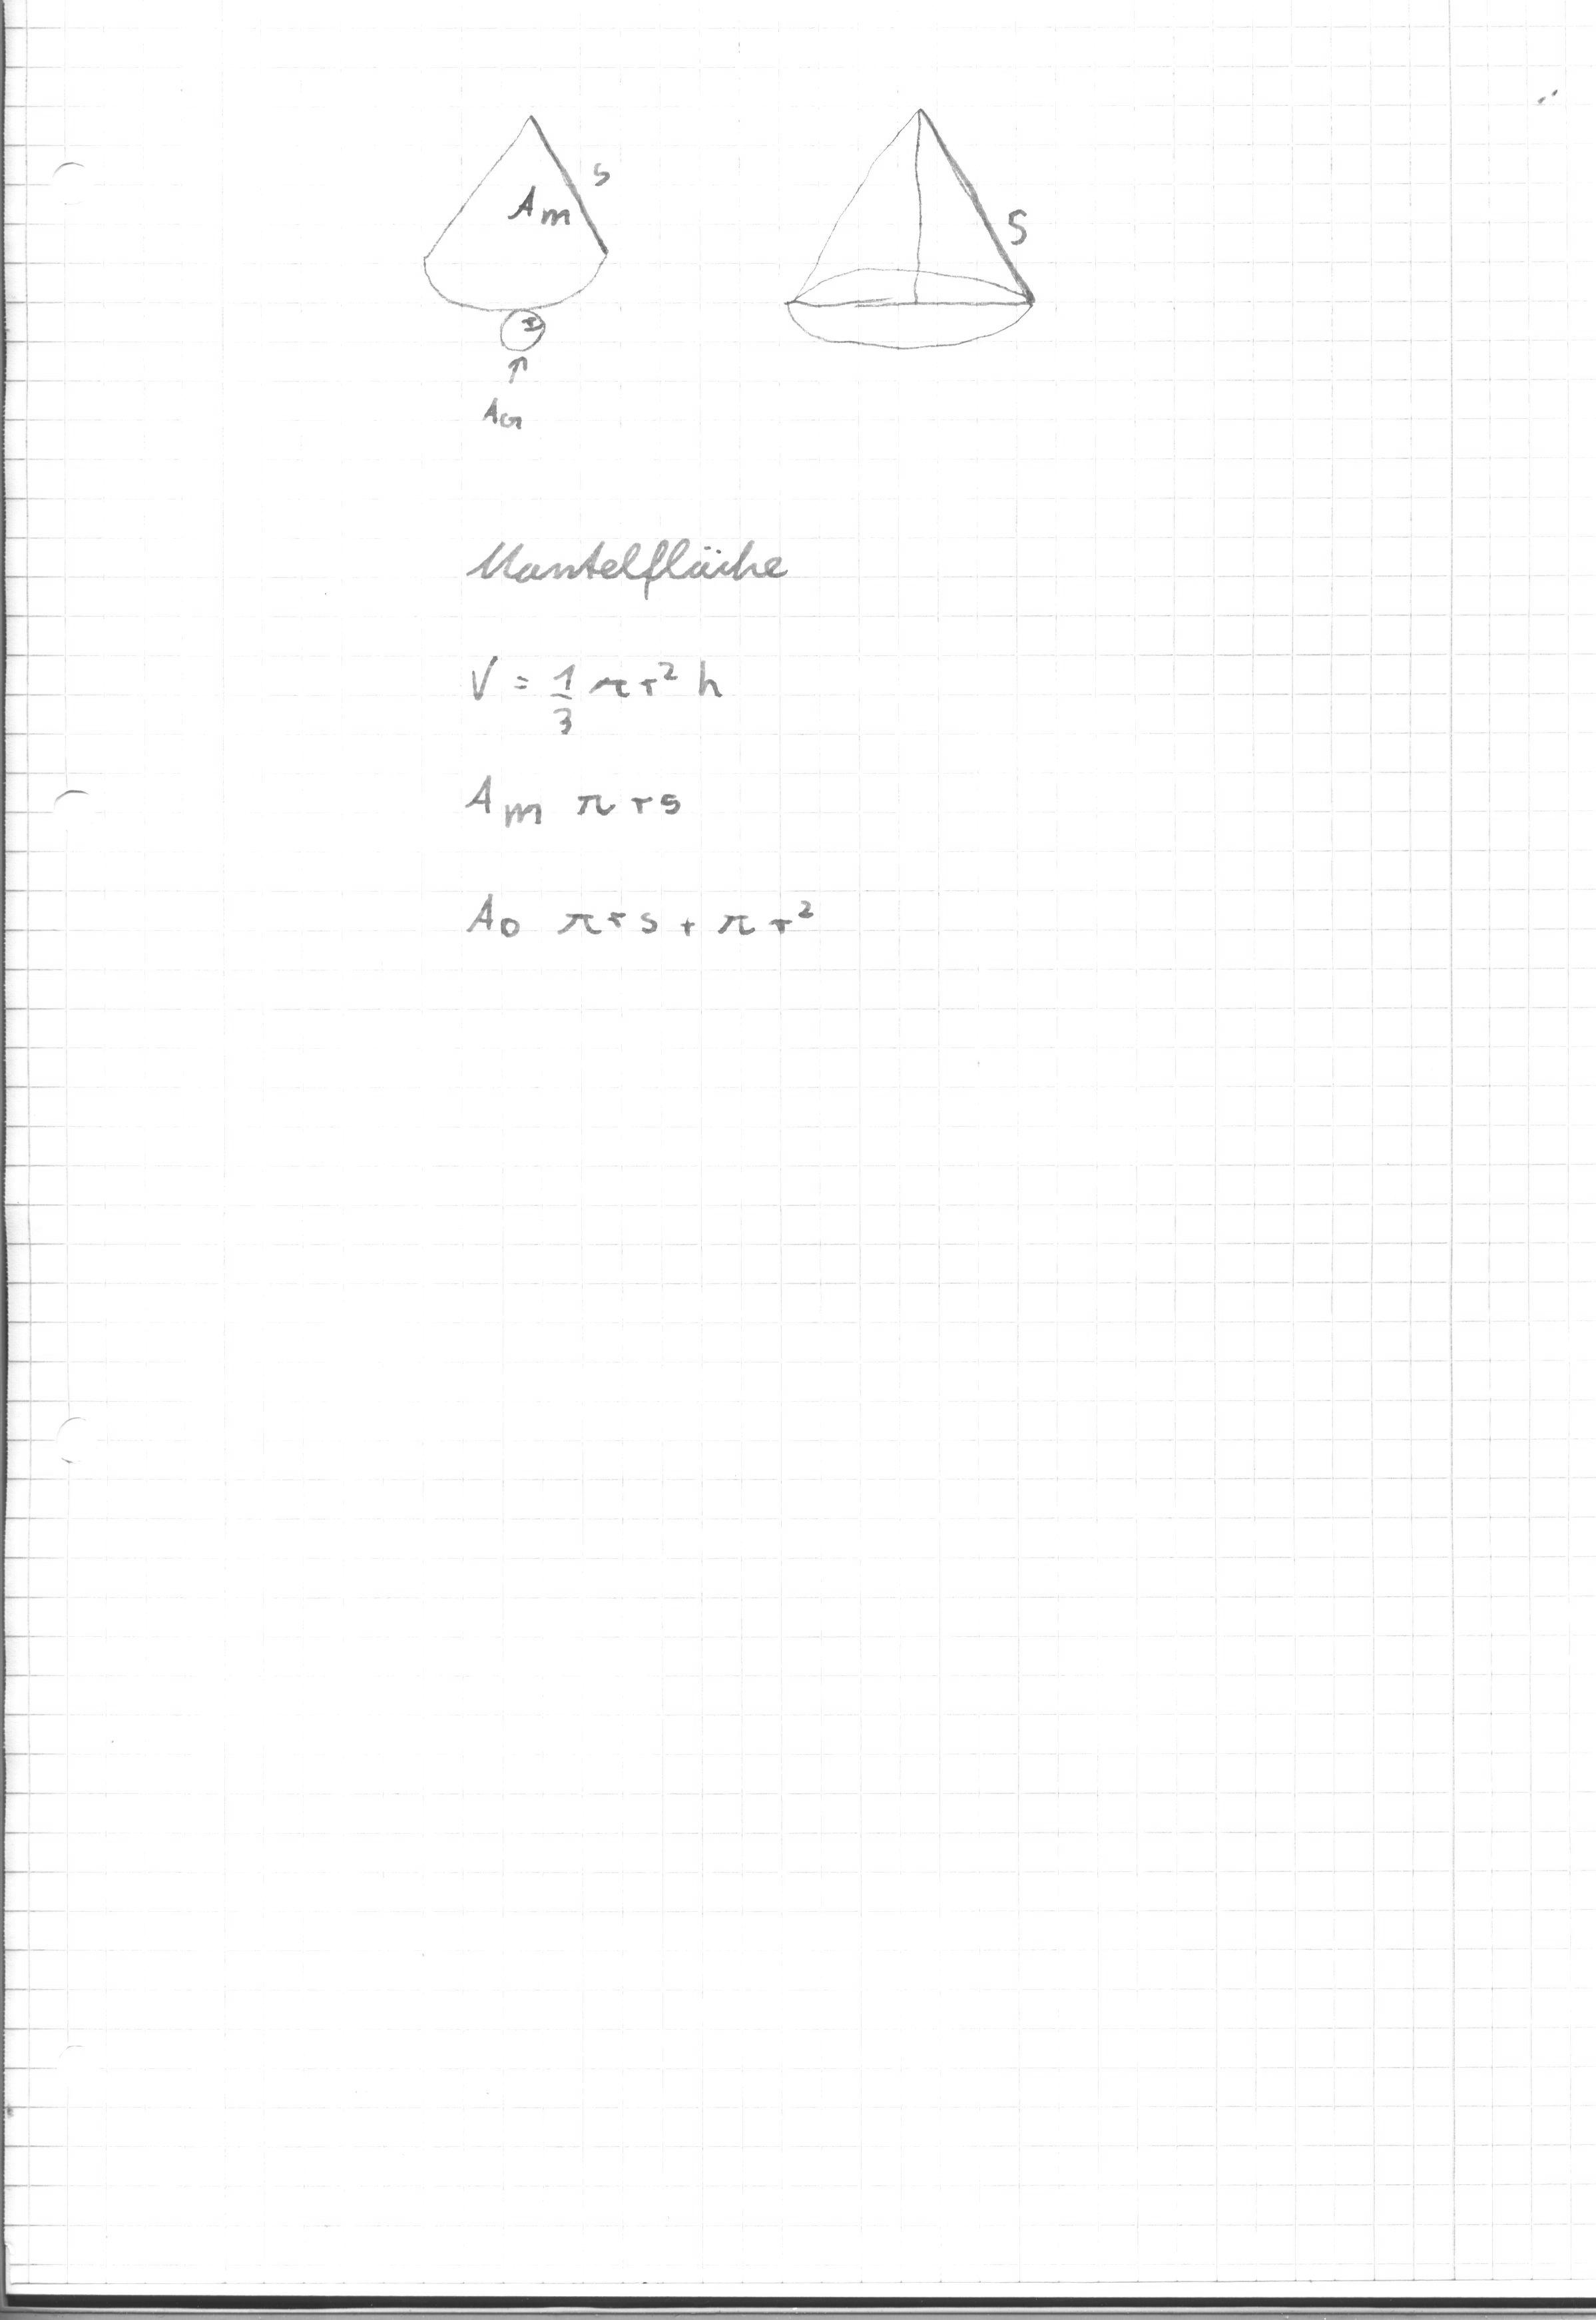word: (401, 483, 908, 978)
